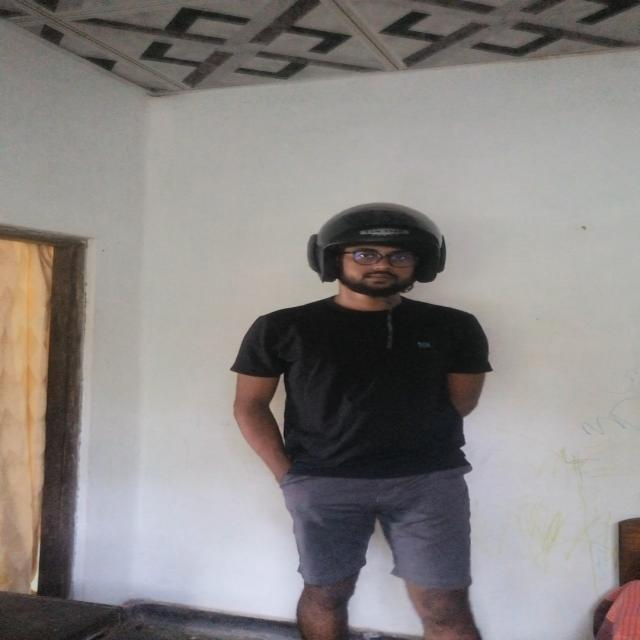Helmet_Wearer: (292, 196, 462, 326)
Person: (231, 201, 511, 640)
